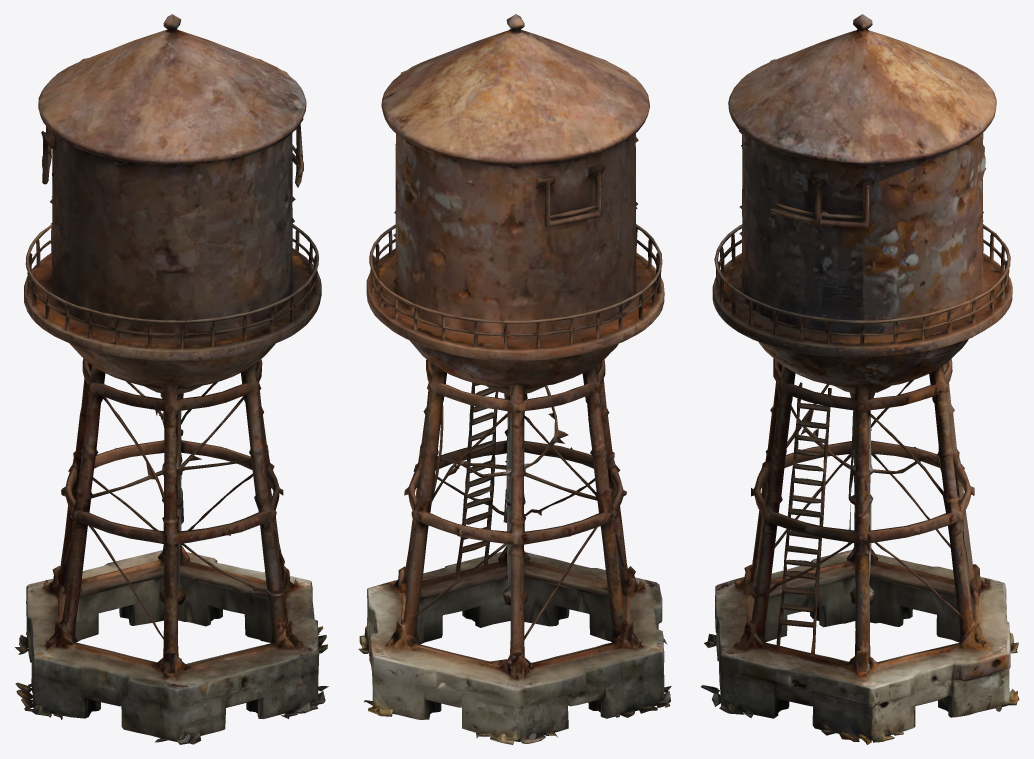
File: water_tower.glb
3 views of the same model, side by side, from view 1: azimuth 30°, elevation 25°; view 2: azimuth 150°, elevation 25°; view 3: azimuth 270°, elevation 25° (orthographic).
Parts seen in each view (by area): view 1: tripo_node_23a079b4-df51-4e1f-9116-db69d34fabe9; view 2: tripo_node_23a079b4-df51-4e1f-9116-db69d34fabe9; view 3: tripo_node_23a079b4-df51-4e1f-9116-db69d34fabe9.
Boxes of the visible parts, x1,y1,x2,y2 form: tripo_node_23a079b4-df51-4e1f-9116-db69d34fabe9: (15, 14, 328, 744); tripo_node_23a079b4-df51-4e1f-9116-db69d34fabe9: (358, 14, 671, 744); tripo_node_23a079b4-df51-4e1f-9116-db69d34fabe9: (701, 14, 1019, 744).
Bounding box in the file's own units: 0.4791 × 1 × 0.4392.
1 material, 1 textured.
